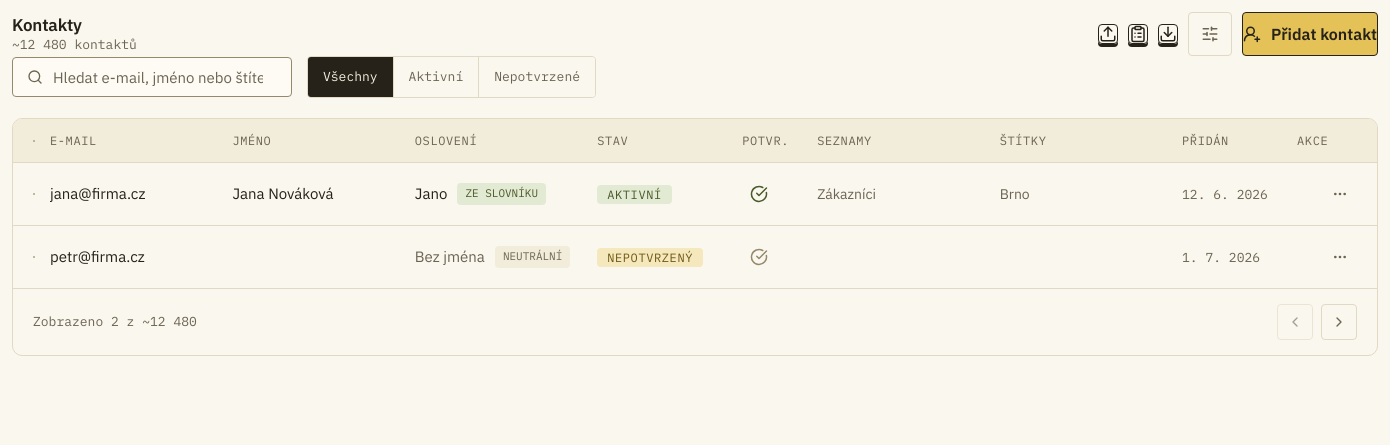
Test case: ContactsTable › vybraný řádek ohlásí pruh s počtem a nabídne hromadné akce
Step 1. Click the 1st checkbox named "Vybrat kontakt" → (34, 194), box [33,193,35,195]
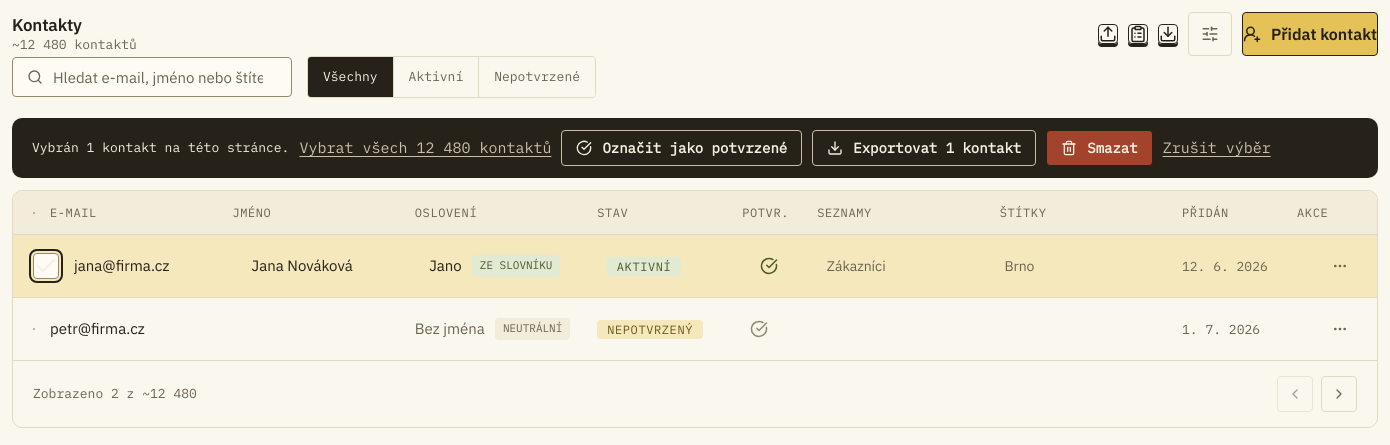
Check: the element with test id "selection-bar" shows "Vybrán 1 kontakt na této stránce", box [32,139,289,156]
Check: the button "Smazat" is shown, box [1046,130,1153,166]
Check: the button "Vybrat všech 12 480 kontaktů" is shown, box [299,136,551,160]
